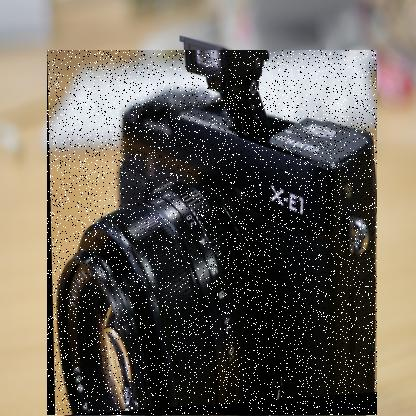Camera: (48, 51, 379, 416)
